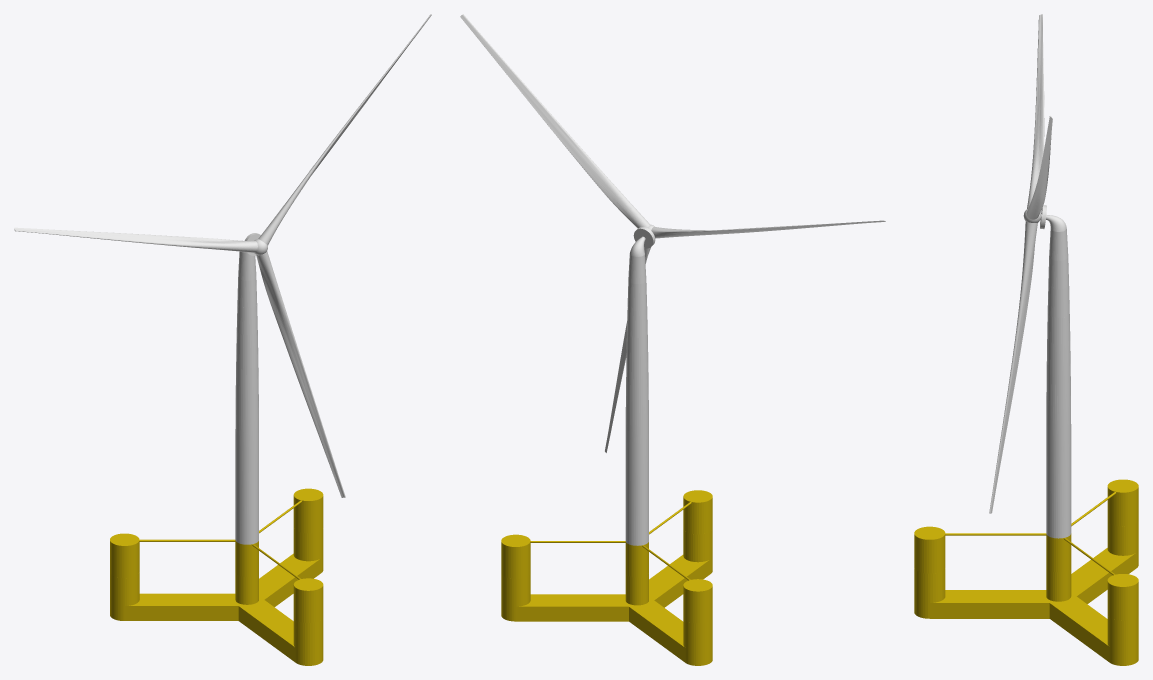
Rendered from Turbine_Base.fbx.
The picture shows the model from 3 angles, left to right: view 1: azimuth 30°, elevation 25°; view 2: azimuth 150°, elevation 25°; view 3: azimuth 270°, elevation 25°; orthographic projection. The views are drawn at different scales.
Parts seen in each view (by area): view 1: tower, Blade 3, Blade 2, Blade 1; view 2: tower, Blade 1, Blade 2; view 3: tower, Blade 3, Blade 2, Blade 1, hub.
Boxes of the visible parts, left/top/right/bottom form: tower: left=110, top=251, right=323, bottom=665; Blade 3: left=256, top=251, right=345, bottom=497; Blade 2: left=14, top=227, right=257, bottom=252; Blade 1: left=258, top=14, right=431, bottom=245; tower: left=501, top=254, right=712, bottom=665; Blade 1: left=460, top=14, right=650, bottom=228; Blade 2: left=651, top=220, right=885, bottom=238; tower: left=914, top=229, right=1138, bottom=665; Blade 3: left=989, top=221, right=1037, bottom=513; Blade 2: left=1027, top=14, right=1044, bottom=208; Blade 1: left=1026, top=115, right=1052, bottom=219; hub: left=1040, top=205, right=1066, bottom=231.
Bounding box in the file's own units: 26530 × 33655 × 11593.
